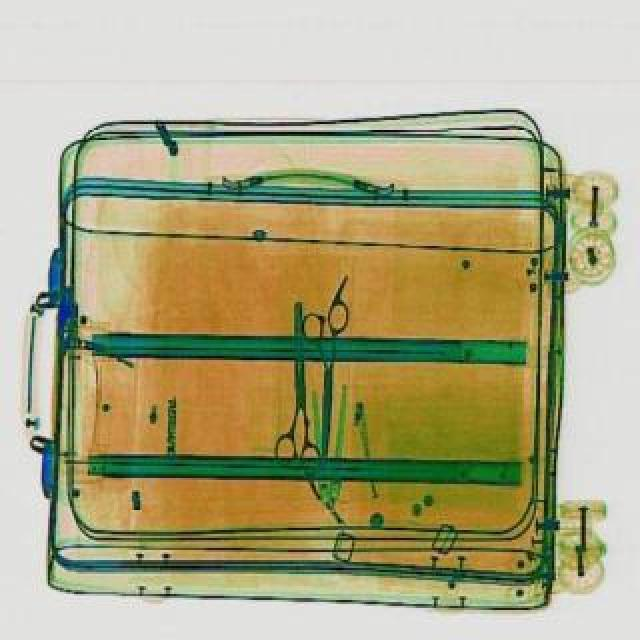pliers: (272, 298, 322, 474), (298, 300, 350, 464)
